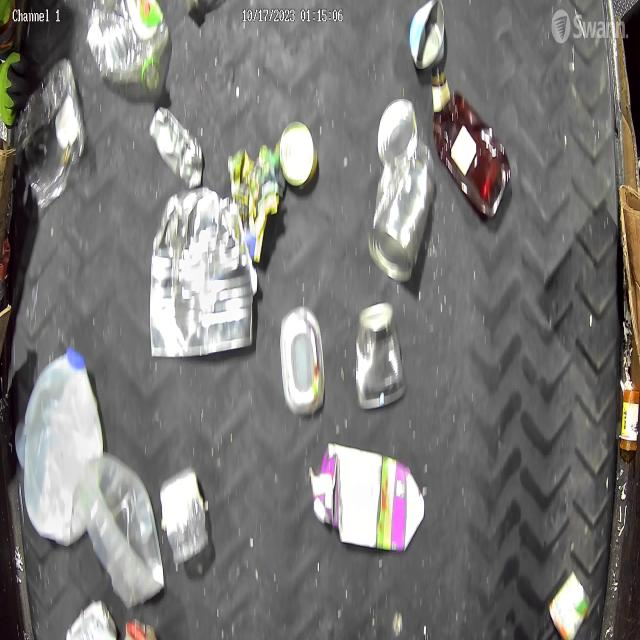milk-jug: (23, 346, 106, 550)
